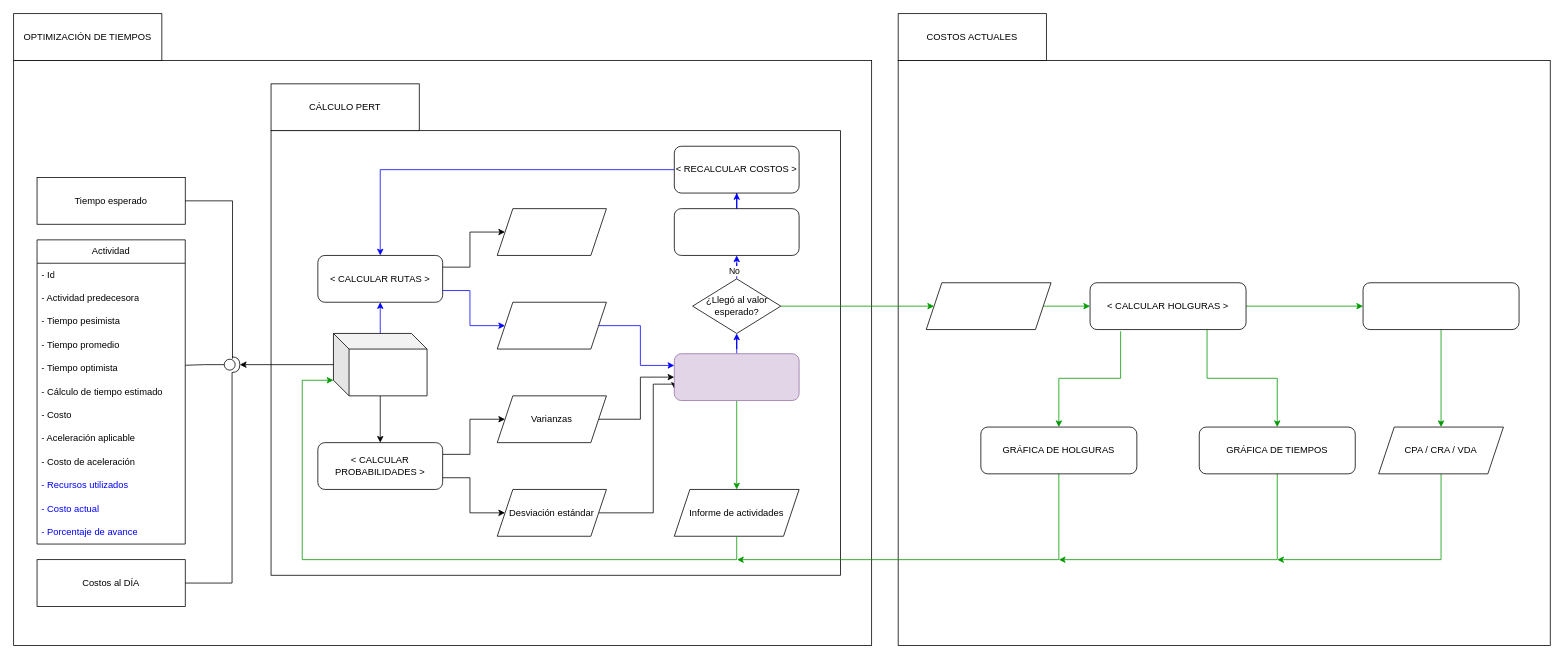
Image size: 1564x659. Some labels were removed from this diagram. Each missing label, with the box of its shape:
< CALCULAR COSTOS >: (1362, 282, 1519, 330)
< CÁLCULO PERT >: (674, 353, 799, 401)
< OPTIMIZAR TIEMPOS >: (674, 208, 799, 255)
Cálculos optimziados: (925, 282, 1051, 330)
INTERFAZ GRÁFICA: (333, 333, 427, 396)
Lista de rutas: (496, 301, 606, 349)
Mapa de rutas: (496, 208, 606, 255)
Visualización de datos: (223, 356, 240, 372)
